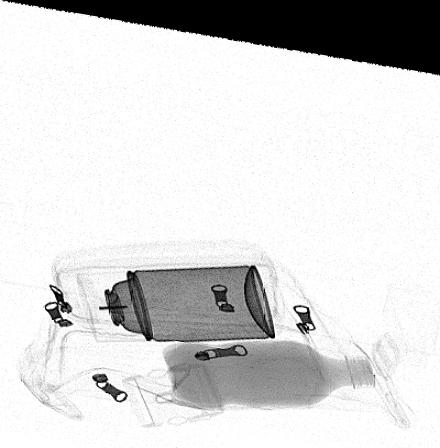Sprayer: (76, 256, 277, 338)
